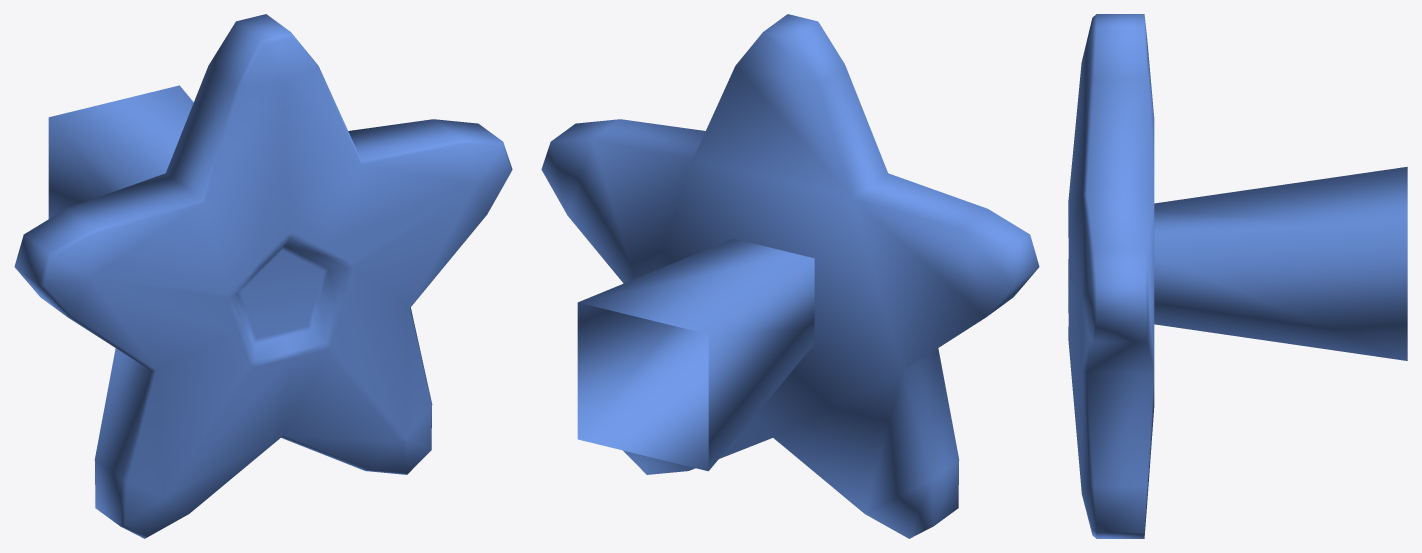
File: DoorStar.fbx
The picture shows the model from 3 angles, left to right: view 1: azimuth 30°, elevation 25°; view 2: azimuth 150°, elevation 25°; view 3: azimuth 270°, elevation 25°; orthographic projection. The views are drawn at different scales.
Visible parts, largest first — view 1: Cube.022; view 2: Cube.022; view 3: Cube.022.
Boxes of the visible parts, box(x1,y1,x2,y2) form: Cube.022: box(14, 14, 512, 538); Cube.022: box(541, 14, 1039, 538); Cube.022: box(1068, 14, 1407, 538).
Bounding box in the file's own units: 17.24 × 16.4 × 11.06.
